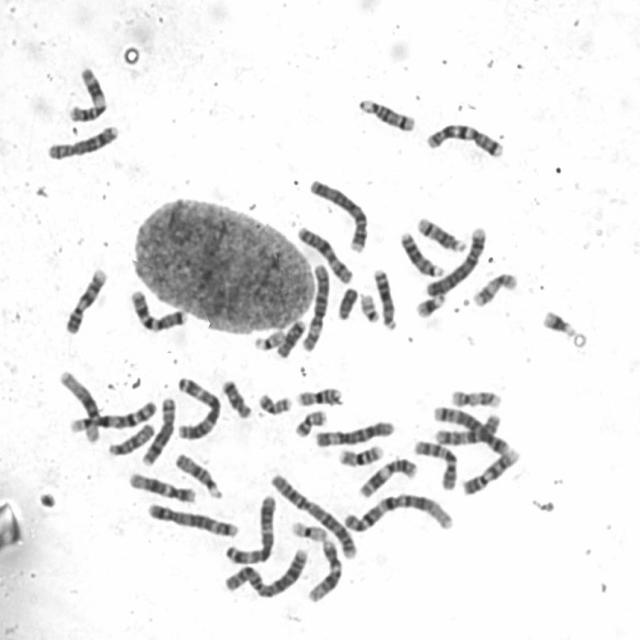A1: (56, 370, 159, 432), (342, 493, 452, 534)
A2: (269, 473, 359, 561), (223, 546, 309, 602)
A3: (222, 492, 276, 565), (175, 376, 223, 441)
B4: (306, 178, 371, 256), (424, 225, 488, 298)
B5: (430, 405, 509, 456), (147, 503, 239, 537)
C10: (413, 440, 459, 491), (434, 413, 501, 446)
C11: (358, 458, 419, 502), (66, 66, 109, 122)
C12: (306, 540, 342, 604), (129, 472, 198, 505)
C6: (298, 263, 330, 354), (316, 420, 394, 449)
C7: (424, 122, 505, 161), (129, 288, 189, 334)
C8: (46, 124, 121, 160), (140, 396, 177, 467)
C9: (62, 267, 108, 337), (462, 446, 524, 497)
D13: (398, 231, 447, 279), (372, 267, 399, 331)
D14: (358, 97, 416, 132), (416, 216, 468, 253)
D15: (174, 451, 224, 501), (105, 422, 156, 457)
E16: (294, 387, 342, 410), (338, 444, 383, 468)
E17: (470, 272, 518, 308), (449, 388, 503, 410)
E18: (222, 379, 255, 419), (275, 318, 307, 359)
F19: (67, 416, 102, 444), (290, 520, 328, 543)
F20: (295, 410, 328, 438), (256, 393, 292, 415)
G21: (540, 309, 578, 339), (413, 292, 446, 321)
G22: (252, 328, 286, 352), (356, 292, 379, 325)
X: (296, 226, 357, 286)
Y: (335, 286, 358, 322)
